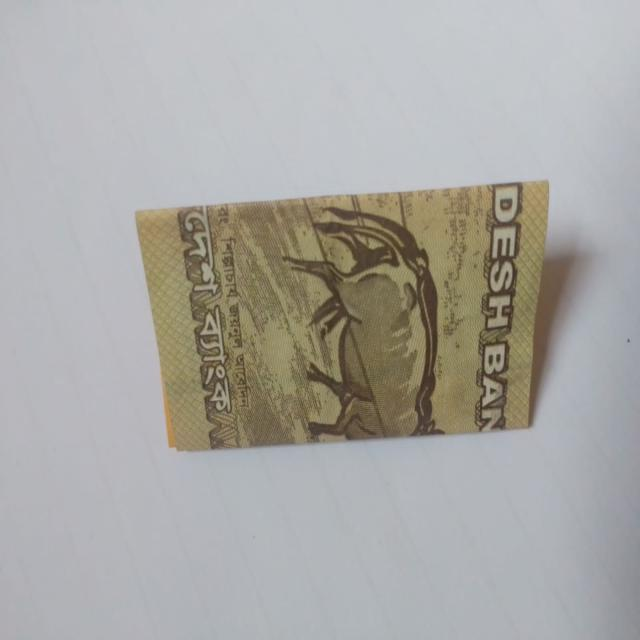Taka: (124, 175, 546, 438)
